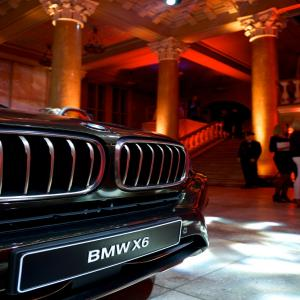Vehicle-registration-plate: (19, 220, 182, 295)
